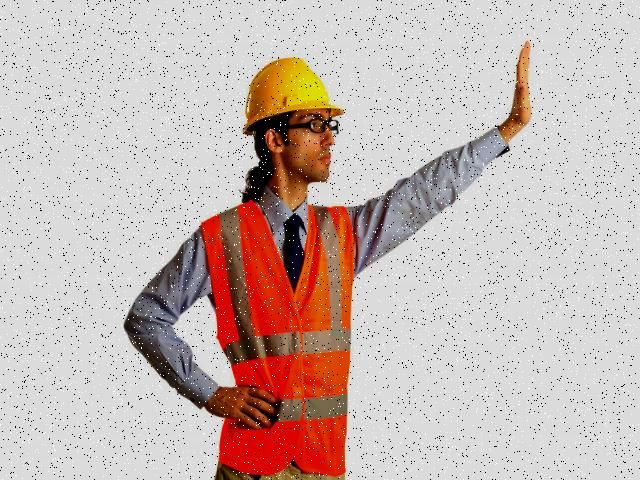Helmet: (240, 52, 347, 149)
